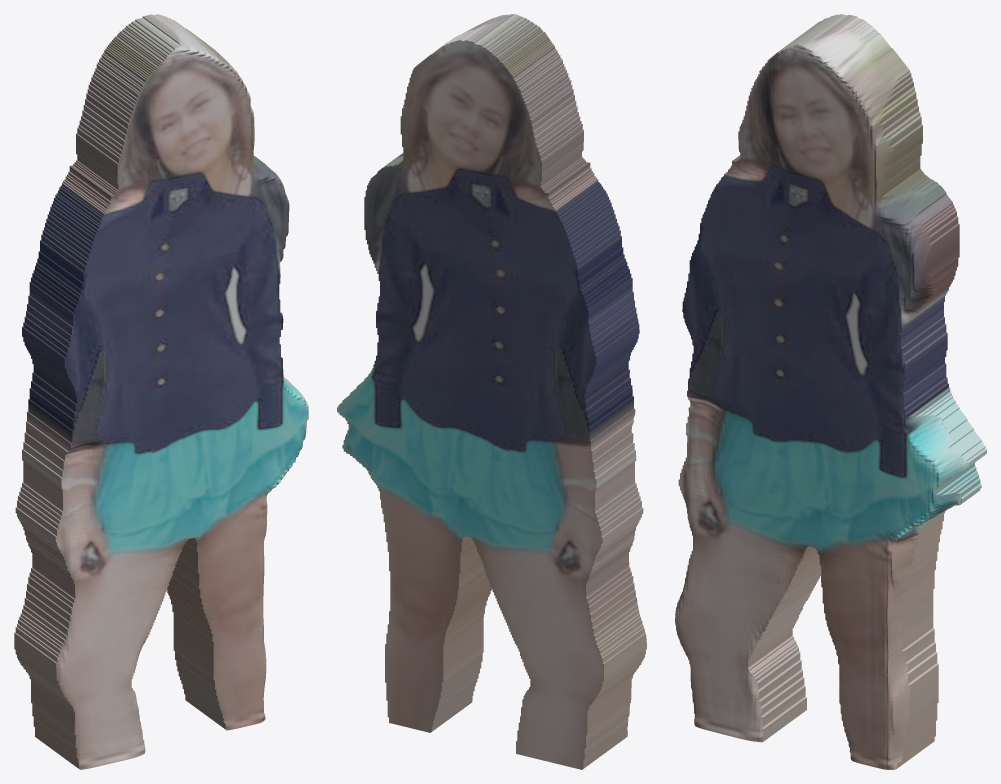
Rendered from avatar_ar_234833.glb.
3 views of the same model, side by side, from view 1: azimuth 30°, elevation 25°; view 2: azimuth 150°, elevation 25°; view 3: azimuth 330°, elevation 25° (orthographic).
Visible parts, largest first — view 1: world; view 2: world; view 3: world.
Part boxes in pixels (box(x1,y1,x2,y2)): world: box(14, 14, 308, 769); world: box(337, 14, 646, 769); world: box(675, 14, 986, 769).
Size of the model in its own units: 39.14 by 98.23 by 11.63.
